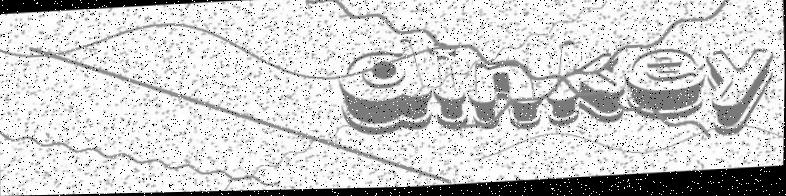d: (333, 38, 435, 136)
e: (622, 47, 709, 124)
k: (547, 33, 627, 134)
l: (425, 38, 474, 137)
n: (467, 53, 543, 137)
y: (706, 46, 777, 140)
